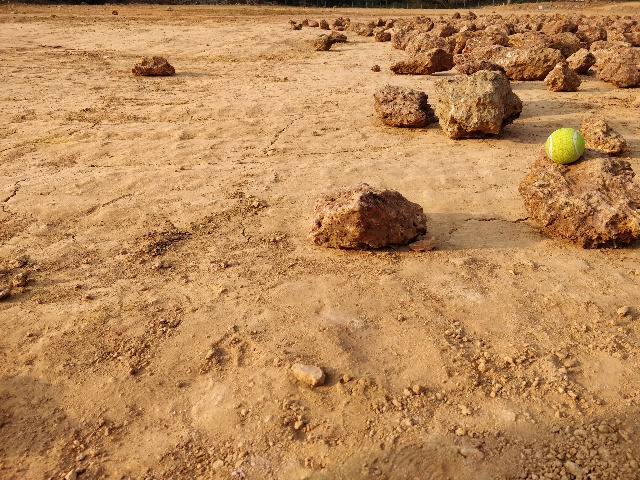ball: (539, 125, 587, 167)
